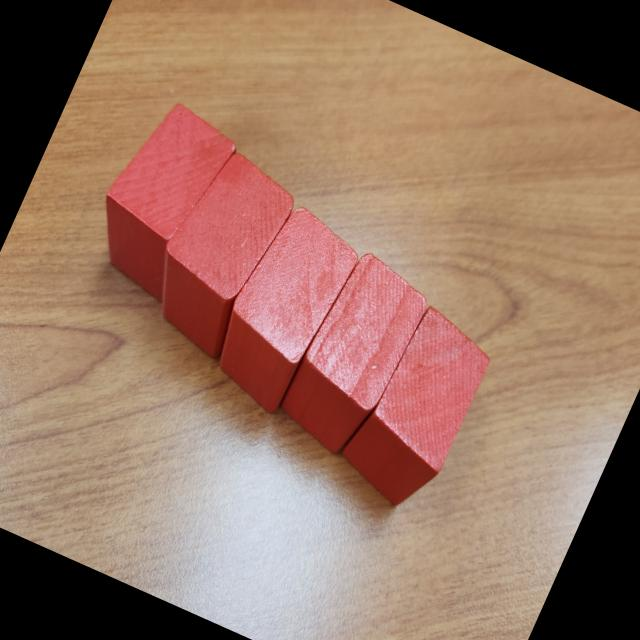red: (328, 296, 503, 522), (130, 140, 306, 364), (196, 197, 368, 422), (271, 245, 438, 466), (74, 91, 244, 308)
